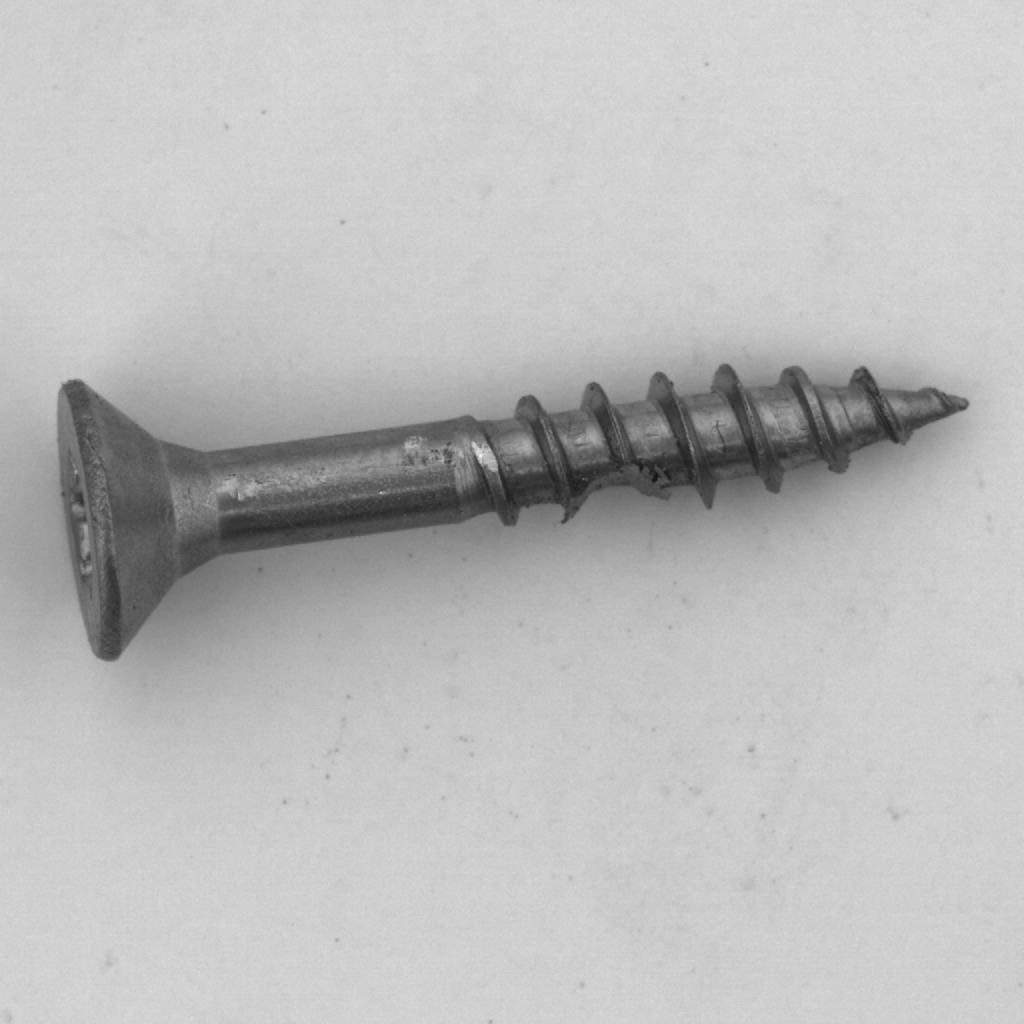thread_side: (524, 426, 732, 579)
